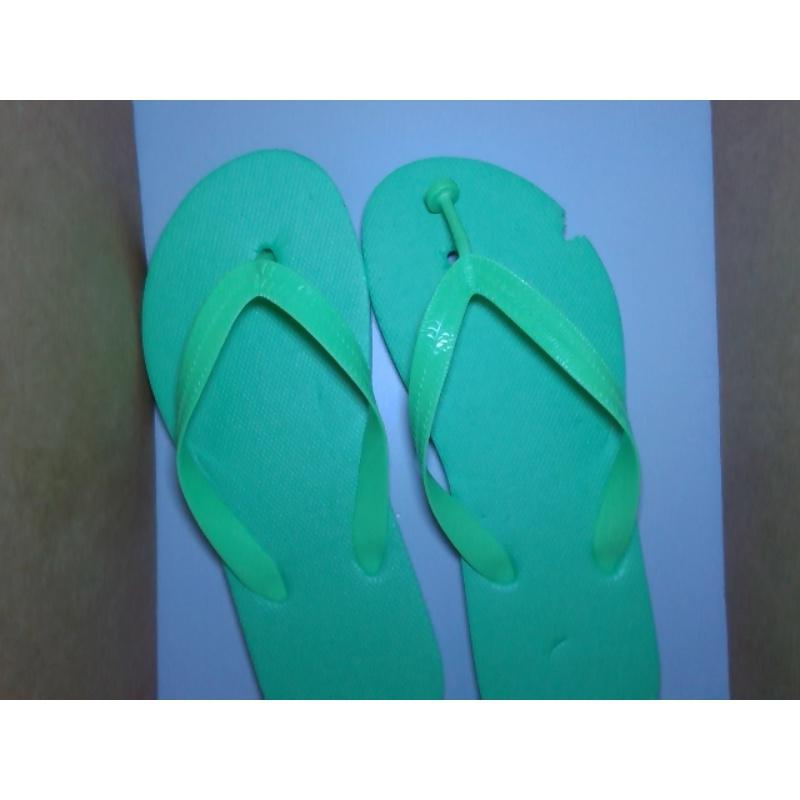chipped: (546, 190, 606, 267)
detached: (413, 166, 470, 229)
